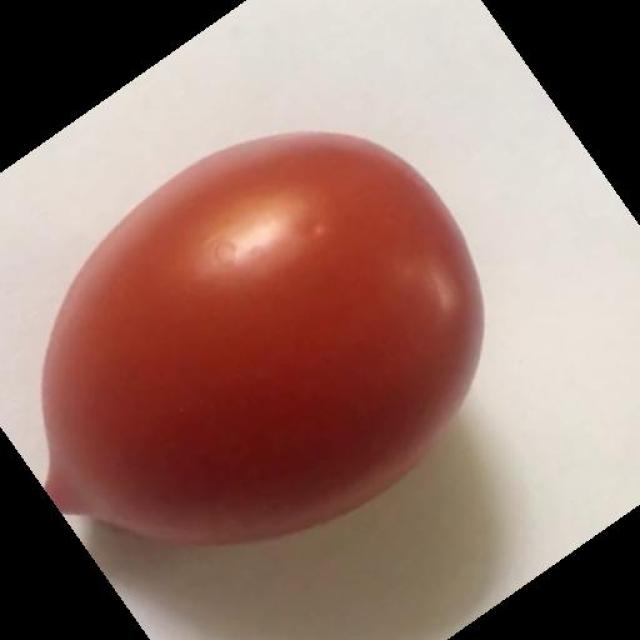ripe tomato: (32, 120, 490, 564)
